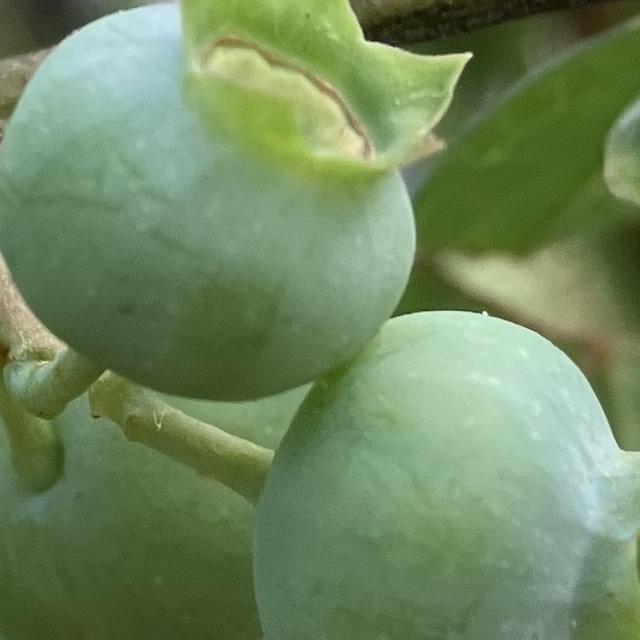Blueberries: (0, 0, 470, 401), (248, 305, 640, 640)
